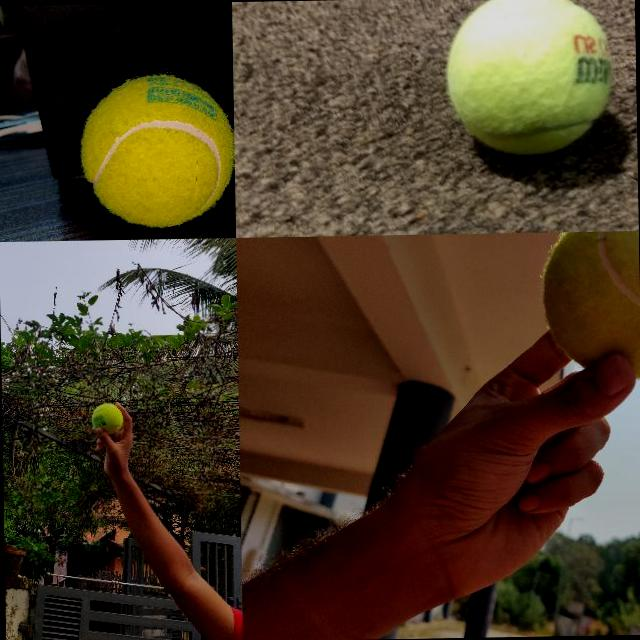Tennis Ball: (443, 0, 618, 158), (78, 70, 235, 230), (542, 230, 640, 380), (91, 401, 124, 434)
